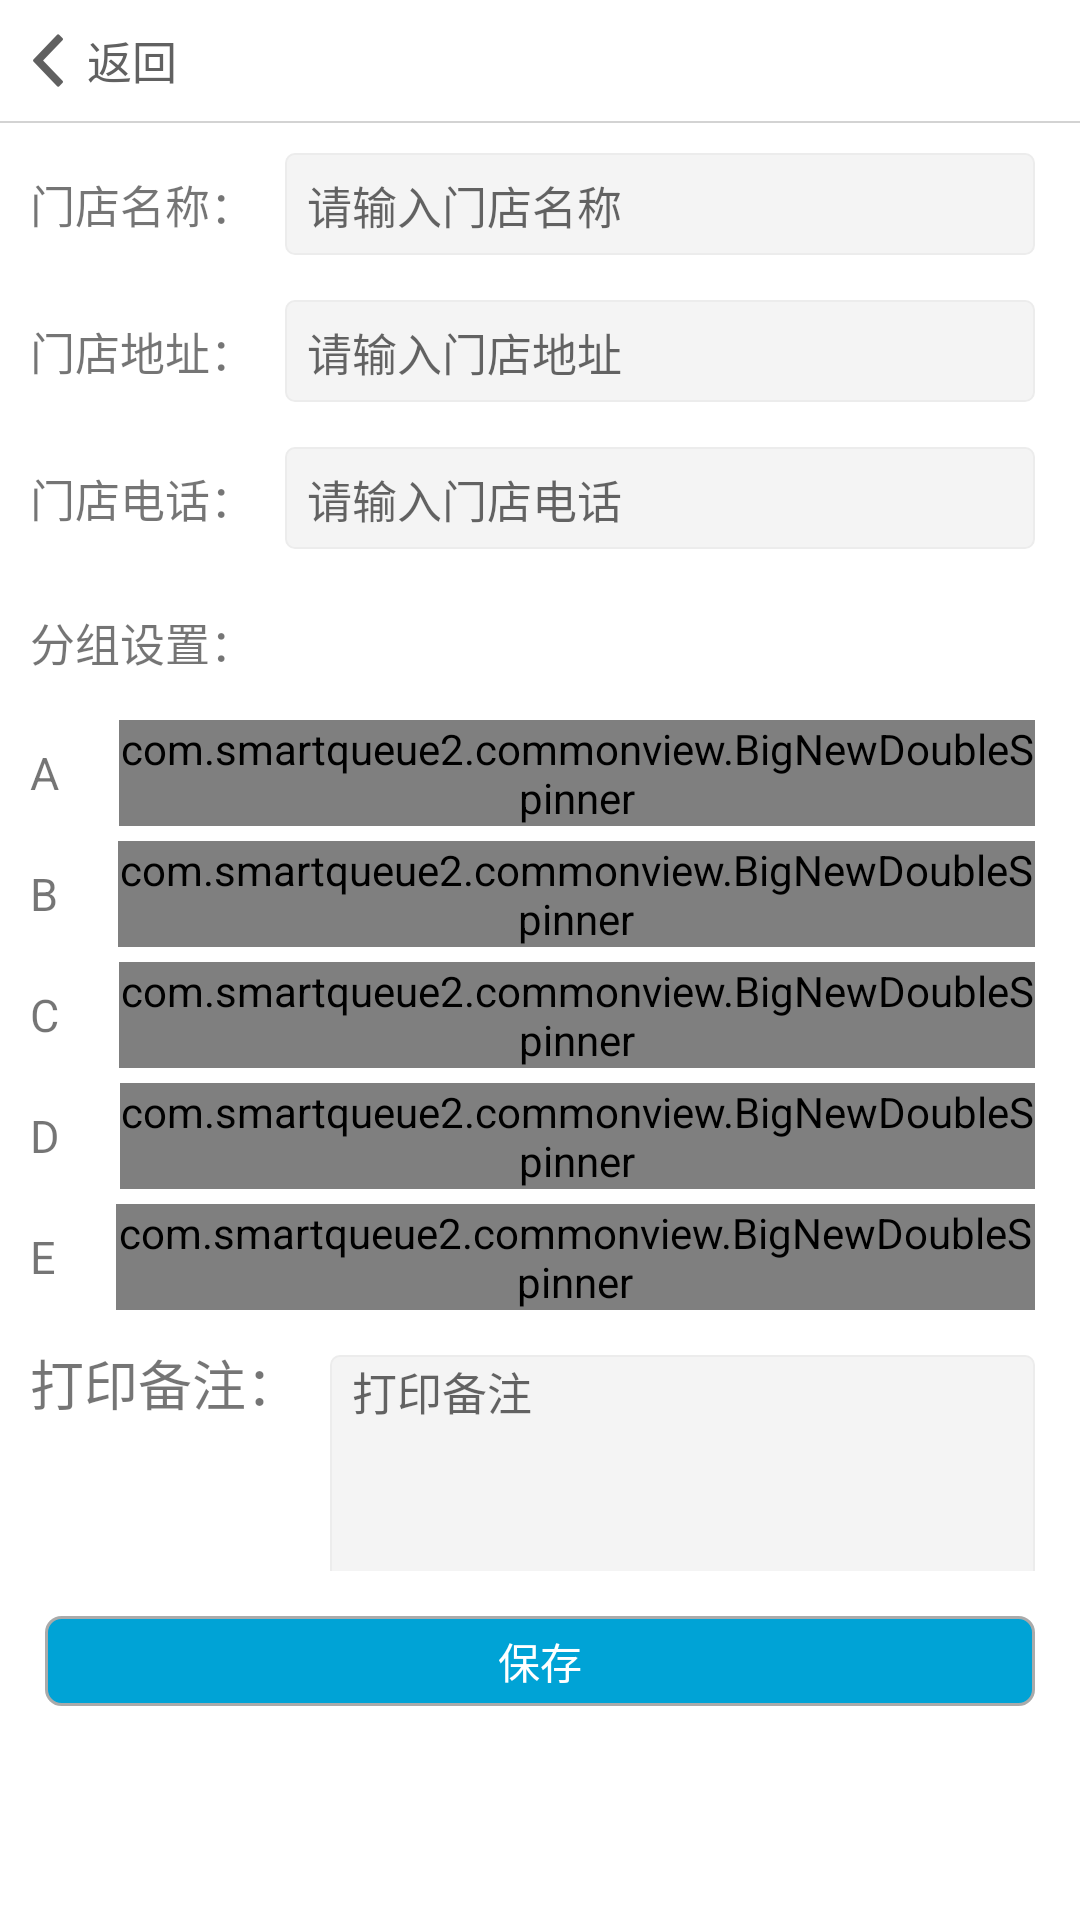

Point at icon controls on the screen. Image size 1080 × 1920, points as (x,y).
ion chevron left ionicons: (48,60)
